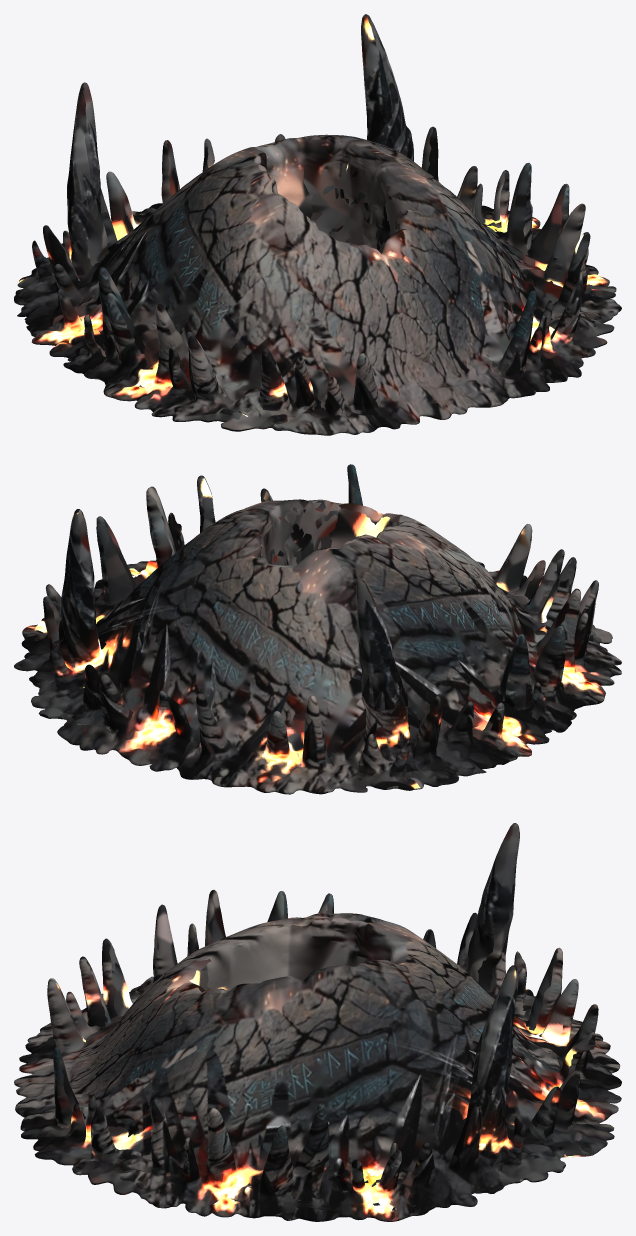
File: struct_magma_vent.glb
The picture shows the model from 3 angles, top to bottom: view 1: azimuth 30°, elevation 25°; view 2: azimuth 150°, elevation 25°; view 3: azimuth 270°, elevation 25°; orthographic projection. The views are drawn at different scales.
Parts seen in each view (by area): view 1: geometry_0; view 2: geometry_0; view 3: geometry_0.
Part boxes in pixels (x1=…): geometry_0: x1=14, y1=14, x2=621, y2=435; geometry_0: x1=14, y1=464, x2=621, y2=794; geometry_0: x1=14, y1=823, x2=621, y2=1221.
Bounding box in the file's own units: 15.17 × 5.5 × 15.15.
1 material, 1 textured.
